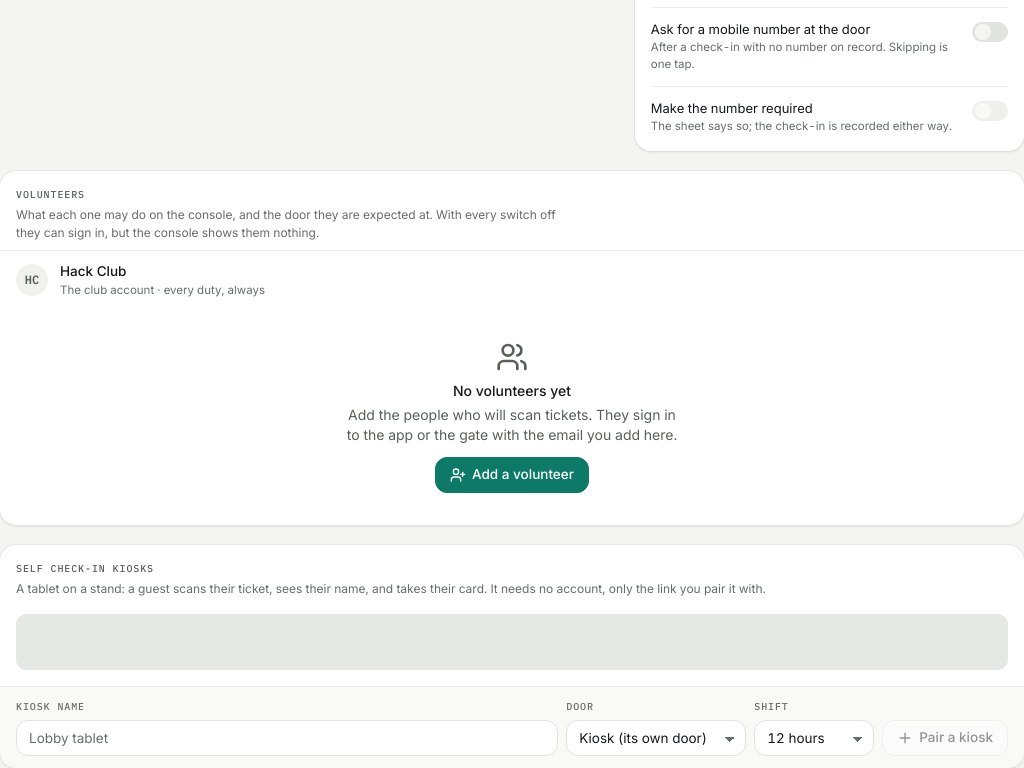
Test: adding a volunteer › offers the first volunteer from the empty team
The width and height of the screenshot is (1024, 768).
(page scrolled)
Click the button "Add a volunteer".
click(512, 475)  # box [435, 457, 589, 493]
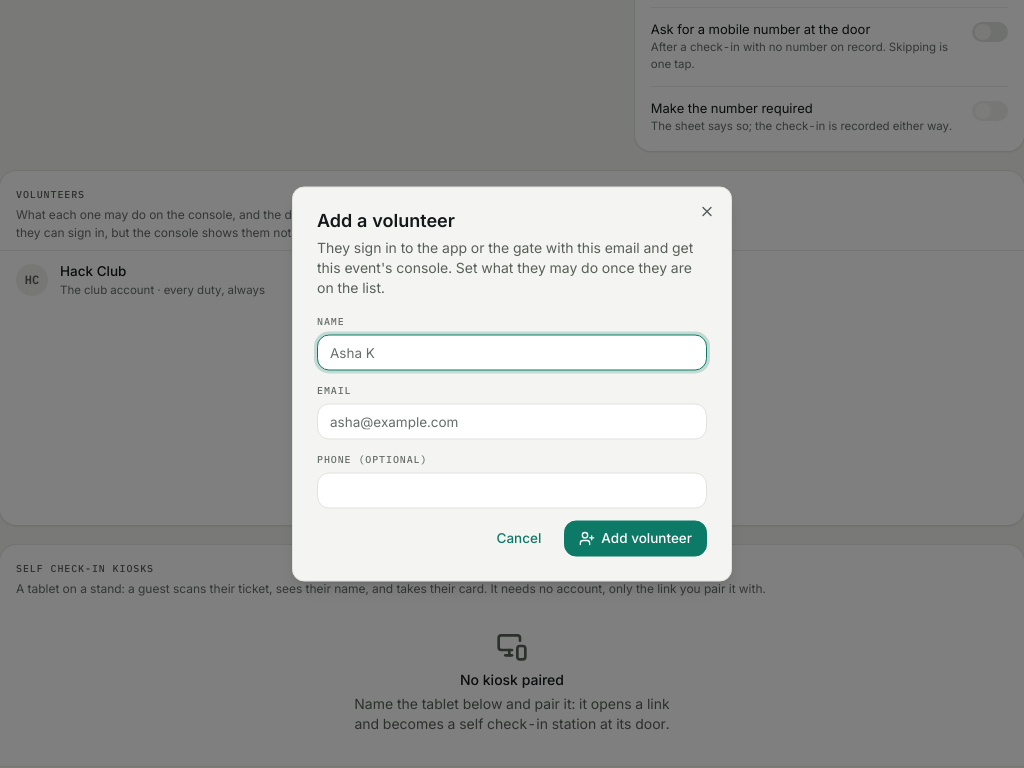
Result: the dialog is shown at [292, 186, 732, 582]
